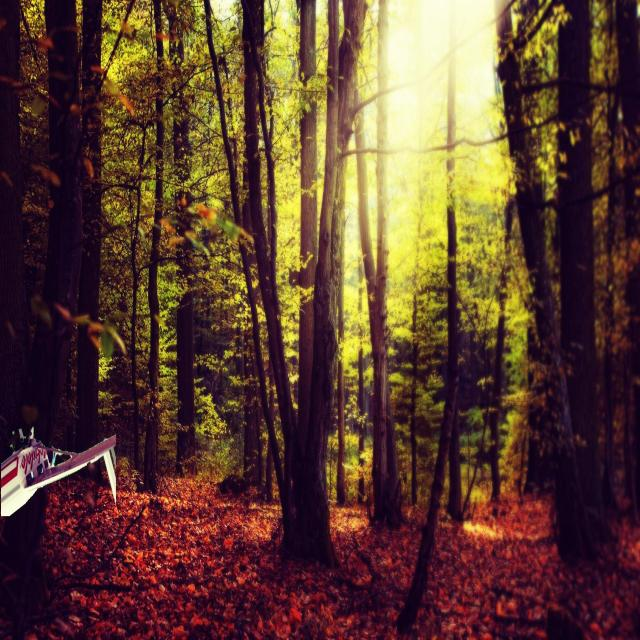airplane: (1, 425, 118, 518)
